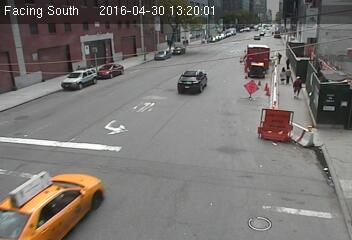neg: (124, 102, 157, 146), (308, 148, 337, 188), (233, 193, 261, 230), (27, 161, 53, 195), (85, 107, 106, 135), (233, 73, 253, 100), (151, 46, 168, 69), (64, 69, 77, 87), (113, 51, 126, 68)
pos: (290, 75, 310, 101), (273, 66, 288, 85), (284, 56, 294, 70), (275, 51, 285, 64)
